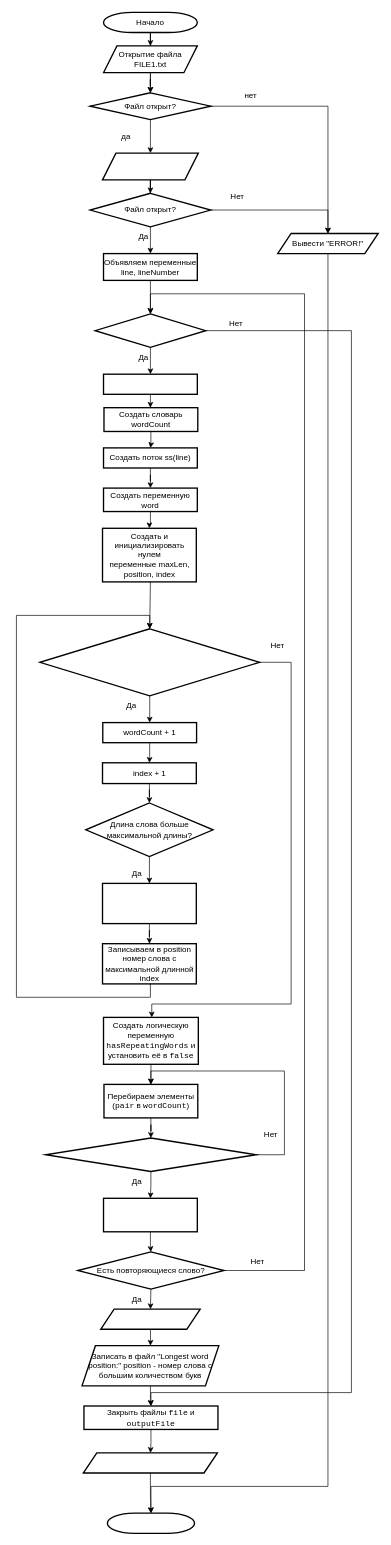
This 391x1545 diagram has some shape labels left out. The centre of each missing label's shape, as x and y in pixels:
lineNumber+1: the point at 150,384
Вывести "Completed": the point at 150,1462
Есть строка в файле?: the point at 150,330
Записать строку в FILE2.txt: the point at 150,1319
Конец: the point at 150,1523
Максимальная длина равна длине слова maxLen = word.length(): the point at 149,903
Открытие файла FILE2.txt для записи: the point at 150,166
Пока в ss есть слова, считывать их по одному в переменную word: the point at 149,662
Слово встеритилось не меньшк двух раз?: the point at 150,1154
Установить переменную hasRepeatingWords в true: the point at 150,1214
